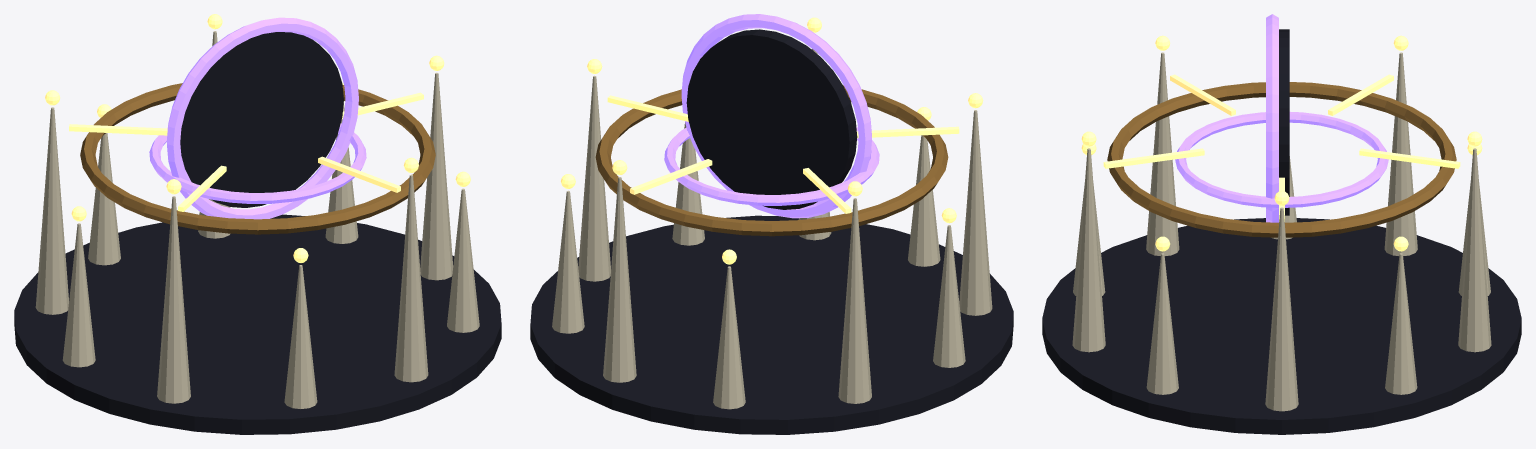
File: 03_eclipse_crown.glb
The picture shows the model from 3 angles, left to right: view 1: azimuth 30°, elevation 25°; view 2: azimuth 150°, elevation 25°; view 3: azimuth 270°, elevation 25°; orthographic projection.
Visible parts, largest first — view 1: crown_floor_nocol, crown_eclipse_disc_nocol, crown_halo_nocol, crown_eclipse_corona_nocol, crown_spire_8_nocol, crown_spire_6_nocol, crown_spire_4_nocol, crown_spire_0_nocol, crown_eclipse_nocol, crown_spire_9_nocol, crown_spire_5_nocol, crown_spire_7_nocol (+6 smaller); view 2: crown_floor_nocol, crown_eclipse_disc_nocol, crown_halo_nocol, crown_eclipse_corona_nocol, crown_spire_4_nocol, crown_spire_2_nocol, crown_spire_6_nocol, crown_spire_0_nocol, crown_eclipse_nocol, crown_spire_1_nocol, crown_spire_3_nocol, crown_spire_5_nocol (+6 smaller); view 3: crown_floor_nocol, crown_halo_nocol, crown_eclipse_nocol, crown_spire_0_nocol, crown_spire_2_nocol, crown_spire_8_nocol, crown_spire_4_nocol, crown_spire_6_nocol, crown_spire_1_nocol, crown_spire_9_nocol, crown_eclipse_corona_nocol, crown_eclipse_disc_nocol (+6 smaller).
Part boxes in pixels (x1,y1,x2,y2): crown_floor_nocol: (14, 214, 501, 434); crown_eclipse_disc_nocol: (180, 32, 343, 207); crown_halo_nocol: (80, 83, 435, 234); crown_eclipse_corona_nocol: (167, 17, 358, 219); crown_spire_8_nocol: (394, 174, 428, 382); crown_spire_6_nocol: (157, 196, 190, 403); crown_spire_4_nocol: (35, 107, 68, 314); crown_spire_0_nocol: (420, 72, 453, 280); crown_eclipse_nocol: (149, 123, 366, 203); crown_spire_9_nocol: (447, 188, 479, 332); crown_spire_5_nocol: (62, 223, 95, 367); crown_spire_7_nocol: (284, 265, 317, 408); crown_floor_nocol: (530, 215, 1013, 434); crown_eclipse_disc_nocol: (686, 29, 857, 209); crown_halo_nocol: (595, 85, 948, 236); crown_eclipse_corona_nocol: (681, 14, 871, 218); crown_spire_4_nocol: (838, 198, 871, 403); crown_spire_2_nocol: (603, 177, 636, 382); crown_spire_6_nocol: (959, 110, 992, 315); crown_spire_0_nocol: (578, 75, 610, 281); crown_eclipse_nocol: (664, 127, 879, 205); crown_spire_1_nocol: (552, 190, 584, 333); crown_spire_3_nocol: (713, 266, 745, 409); crown_spire_5_nocol: (933, 225, 965, 367); crown_floor_nocol: (1042, 218, 1521, 434); crown_halo_nocol: (1107, 82, 1456, 237); crown_eclipse_nocol: (1175, 111, 1388, 207); crown_spire_0_nocol: (1265, 207, 1298, 411); crown_spire_2_nocol: (1458, 148, 1491, 352); crown_spire_8_nocol: (1072, 148, 1105, 352); crown_spire_4_nocol: (1384, 52, 1417, 256); crown_spire_6_nocol: (1146, 52, 1179, 256); crown_spire_1_nocol: (1385, 253, 1417, 394); crown_spire_9_nocol: (1146, 253, 1178, 394); crown_eclipse_corona_nocol: (1266, 14, 1278, 222); crown_eclipse_disc_nocol: (1279, 29, 1289, 215).
Size of the model in its own units: 35 by 24.95 by 35.
